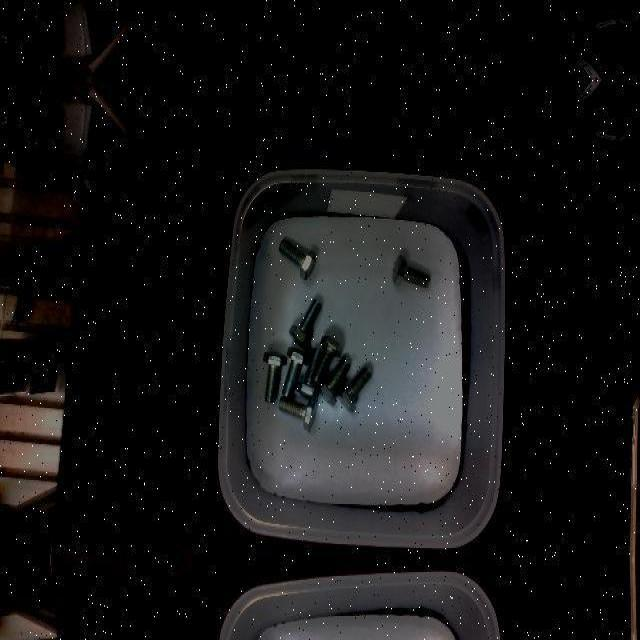screw: (310, 336, 342, 388), (336, 366, 372, 412), (289, 297, 322, 347), (278, 238, 316, 280), (282, 347, 311, 401), (318, 358, 350, 406), (392, 253, 430, 287), (278, 396, 316, 430), (263, 350, 287, 402)
